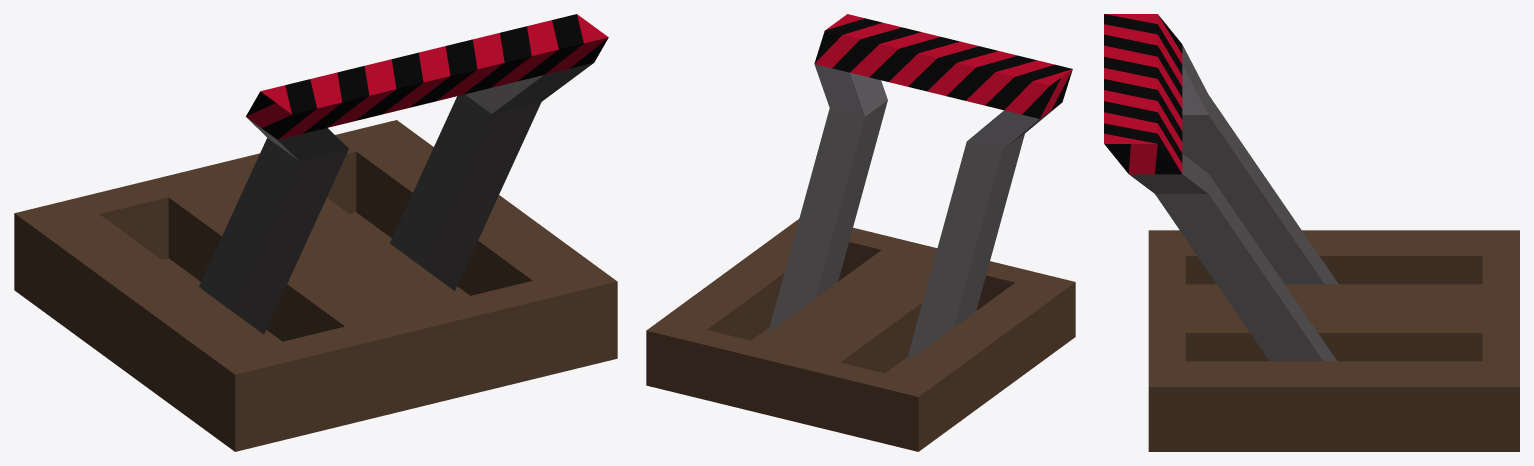
Rendered from LeverRFloor.glb.
The picture shows the model from 3 angles, left to right: view 1: azimuth 30°, elevation 25°; view 2: azimuth 150°, elevation 25°; view 3: azimuth 270°, elevation 25°; orthographic projection. The views are drawn at different scales.
Visible parts, largest first — view 1: Plane.005, Plane.003, Plane.004; view 2: Plane.005, Plane.004, Plane.003; view 3: Plane.005, Plane.004, Plane.003.
Boxes of the visible parts, <box> form: Plane.005: <box>14,120,617,451</box>; Plane.003: <box>199,52,450,334</box>; Plane.004: <box>390,14,608,290</box>; Plane.005: <box>646,219,1075,451</box>; Plane.004: <box>768,14,959,332</box>; Plane.003: <box>906,41,1072,362</box>; Plane.005: <box>1148,230,1519,451</box>; Plane.004: <box>1104,79,1336,361</box>; Plane.003: <box>1104,14,1338,284</box>.
Size of the model in its own units: 0.8582 by 0.7494 by 0.9616.
